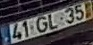1: (21, 19, 29, 38)
3: (63, 7, 74, 24)
4: (11, 22, 22, 40)
5: (73, 3, 84, 21)
G: (35, 15, 48, 33)
L: (47, 13, 58, 31)
